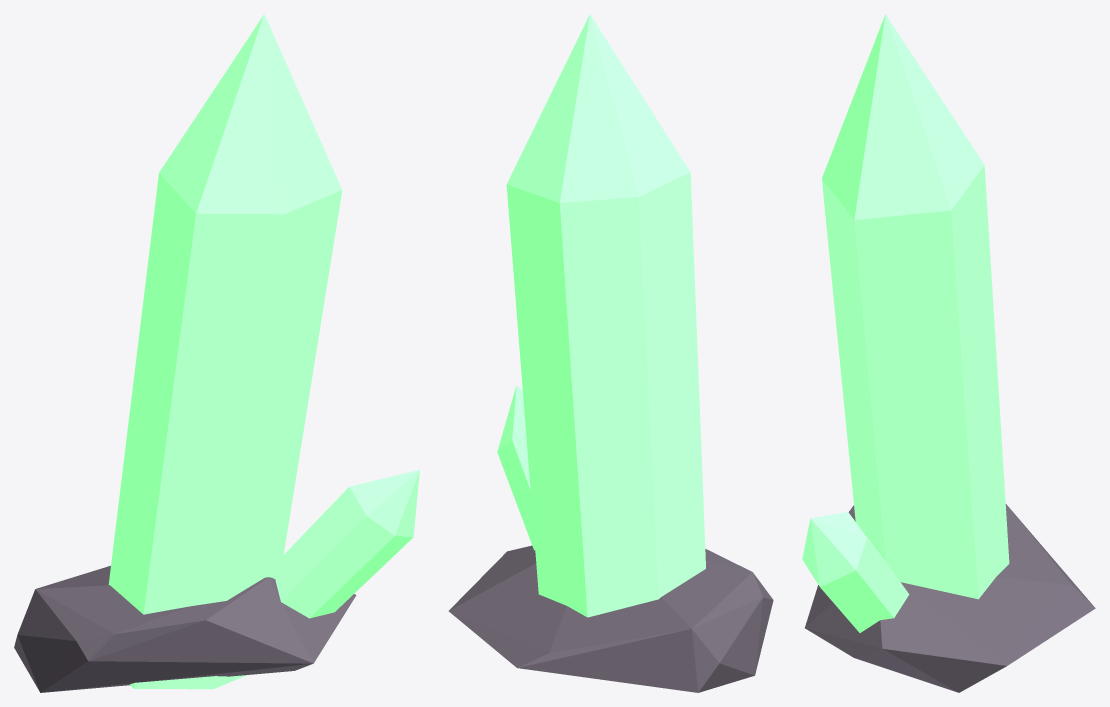
Rendered from Crystal_Single_Green.glb.
The picture shows the model from 3 angles, left to right: view 1: azimuth 30°, elevation 25°; view 2: azimuth 150°, elevation 25°; view 3: azimuth 270°, elevation 25°; orthographic projection. The views are drawn at different scales.
Visible parts, largest first — view 1: Crystal_Single_green; view 2: Crystal_Single_green; view 3: Crystal_Single_green.
Part boxes in pixels (x1=…): Crystal_Single_green: x1=14, y1=14, x2=419, y2=692; Crystal_Single_green: x1=448, y1=14, x2=773, y2=692; Crystal_Single_green: x1=802, y1=14, x2=1095, y2=692.
Size of the model in its own units: 0.4129 by 0.8165 by 0.3359.
